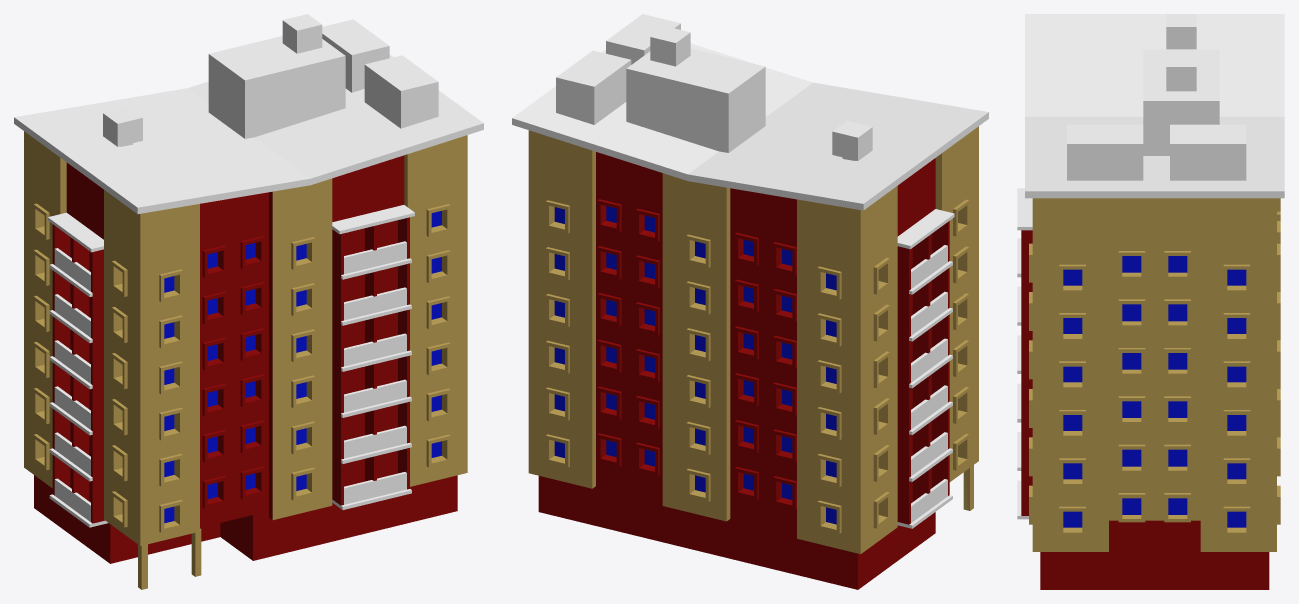
Rendered from Apartment.fbx.
3 renders of one model, left to right at view 1: azimuth 30°, elevation 25°; view 2: azimuth 150°, elevation 25°; view 3: azimuth 270°, elevation 25°, orthographic. The views are drawn at different scales.
Visible parts, largest first — view 1: Apartment; view 2: Apartment; view 3: Apartment.
Part boxes in pixels (left/top/right/bottom): Apartment: left=14, top=14, right=483, bottom=589; Apartment: left=512, top=14, right=988, bottom=589; Apartment: left=1017, top=14, right=1284, bottom=589.
Size of the model in its own units: 28 by 35 by 17.5.
